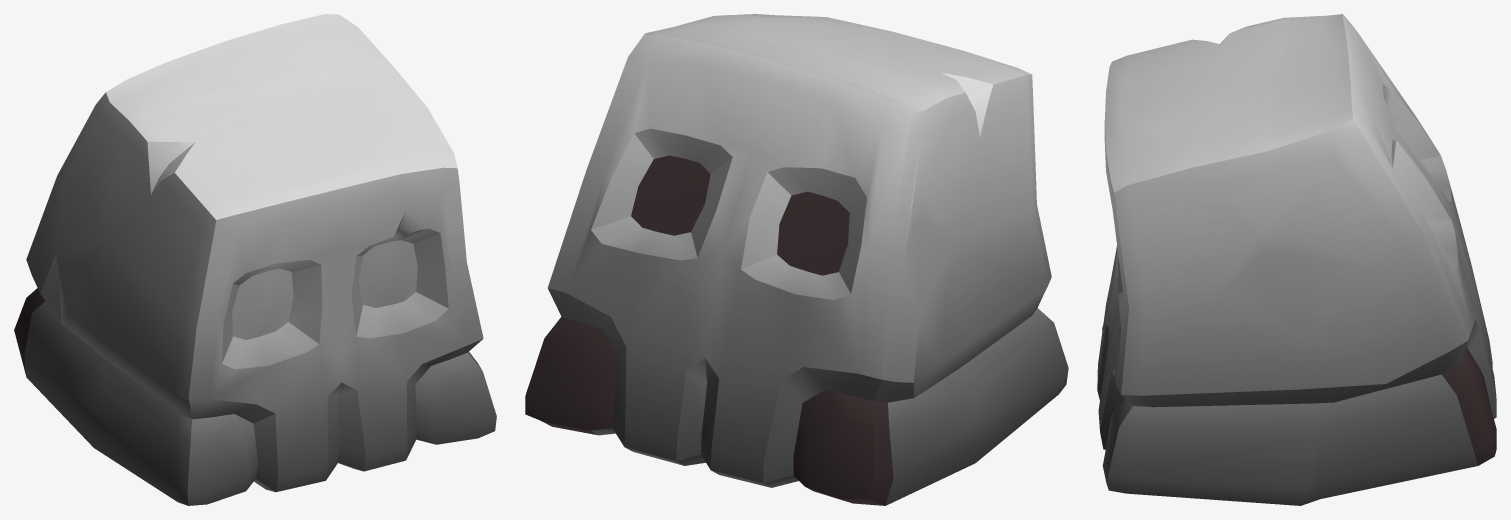
File: Obstacle_Underworld.fbx
3 renders of one model, left to right at view 1: azimuth 30°, elevation 25°; view 2: azimuth 150°, elevation 25°; view 3: azimuth 270°, elevation 25°, orthographic. The views are drawn at different scales.
Parts seen in each view (by area): view 1: Obstacle_Underworld; view 2: Obstacle_Underworld; view 3: Obstacle_Underworld.
Part boxes in pixels (x1=…): Obstacle_Underworld: x1=14, y1=14, x2=496, y2=505; Obstacle_Underworld: x1=525, y1=14, x2=1068, y2=505; Obstacle_Underworld: x1=1097, y1=14, x2=1496, y2=505.
Size of the model in its own units: 93.86 by 96.85 by 93.94.
Materials: 1 (1 with a texture image).
